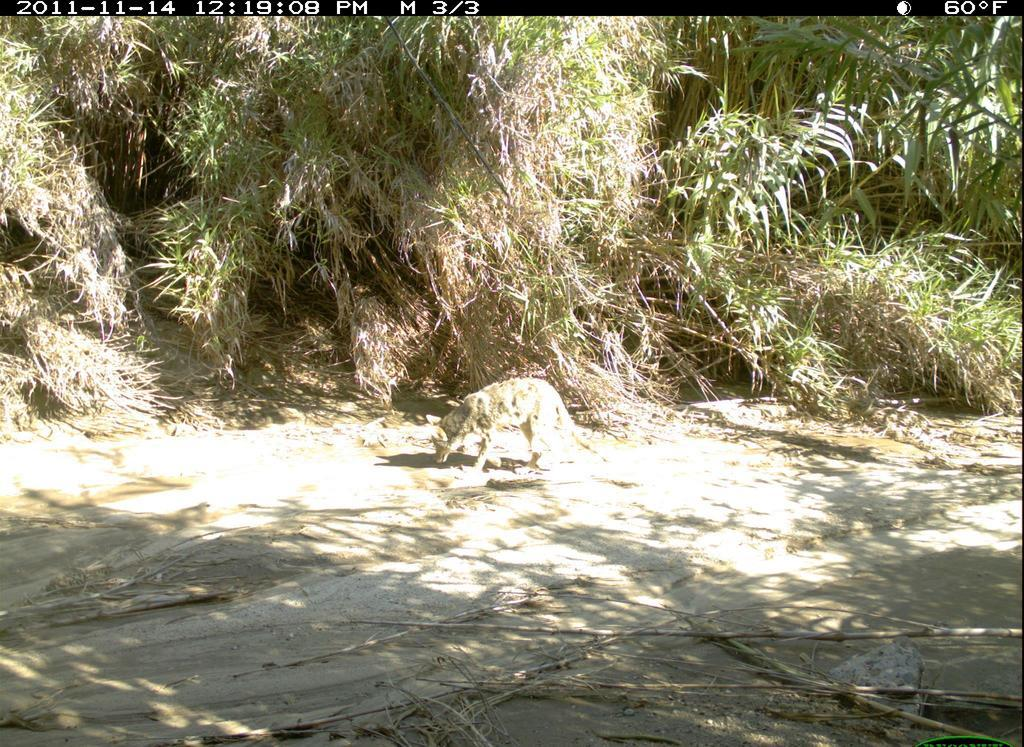coyote: (424, 373, 610, 488)
